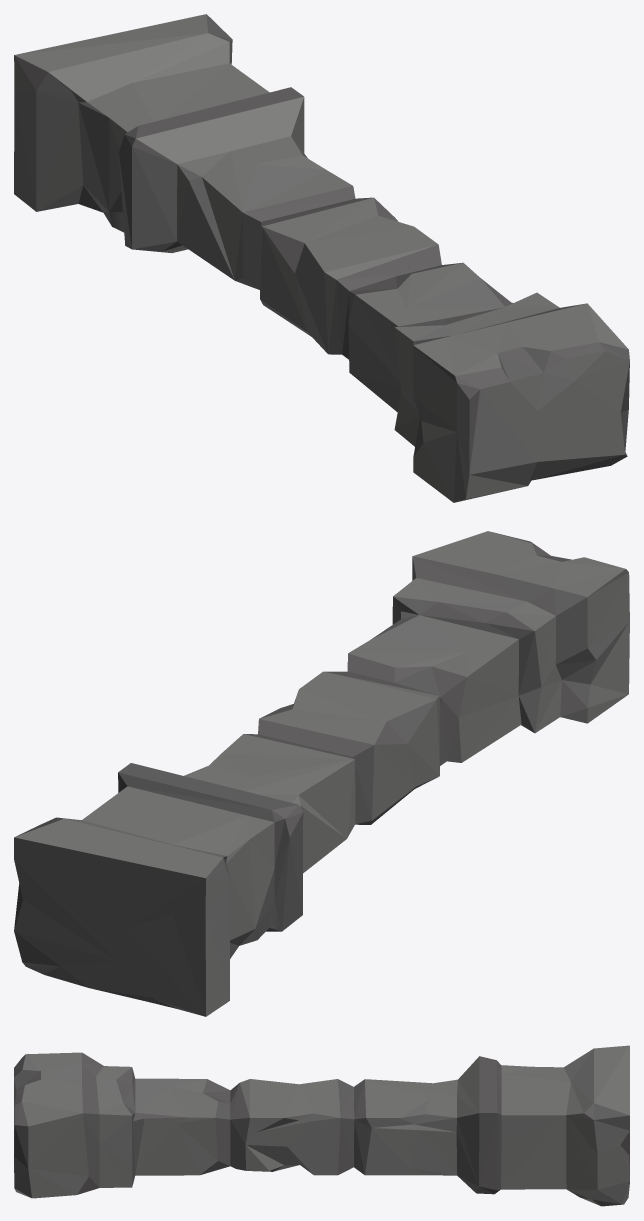
Rendered from SM_Env_Ceiling_Stone_Pillar_02.FBX.
3 views of the same model, one above another, from view 1: azimuth 30°, elevation 25°; view 2: azimuth 150°, elevation 25°; view 3: azimuth 270°, elevation 25° (orthographic). The views are drawn at different scales.
Visible parts, largest first — view 1: SM_Env_Ceiling_Stone_Pillar_02; view 2: SM_Env_Ceiling_Stone_Pillar_02; view 3: SM_Env_Ceiling_Stone_Pillar_02.
Boxes of the visible parts, x1=… form: SM_Env_Ceiling_Stone_Pillar_02: x1=14, y1=14, x2=629, y2=502; SM_Env_Ceiling_Stone_Pillar_02: x1=14, y1=531, x2=629, y2=1016; SM_Env_Ceiling_Stone_Pillar_02: x1=14, y1=1045, x2=629, y2=1206.
Size of what is drawn, in the model's own units: 131 by 513 by 89.89.
